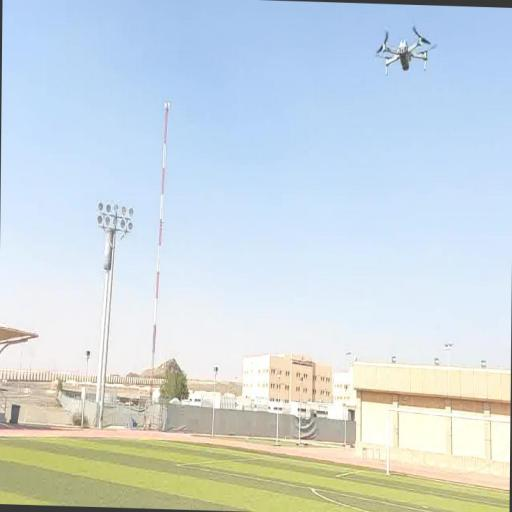drone: (376, 26, 432, 75)
